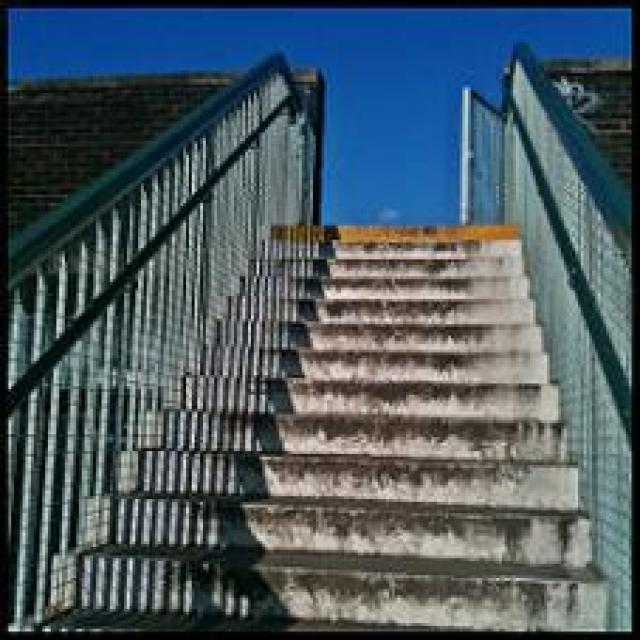upstair: (91, 359, 616, 621)
